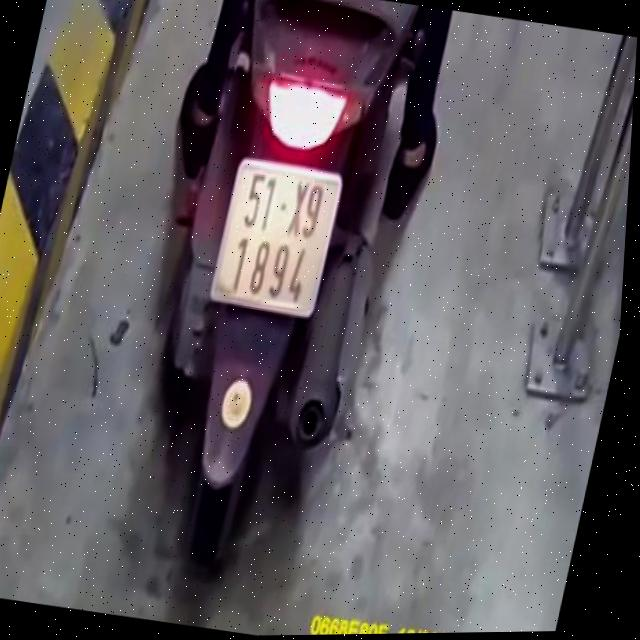motorcycle: (106, 0, 441, 586)
plate: (205, 153, 348, 319)
